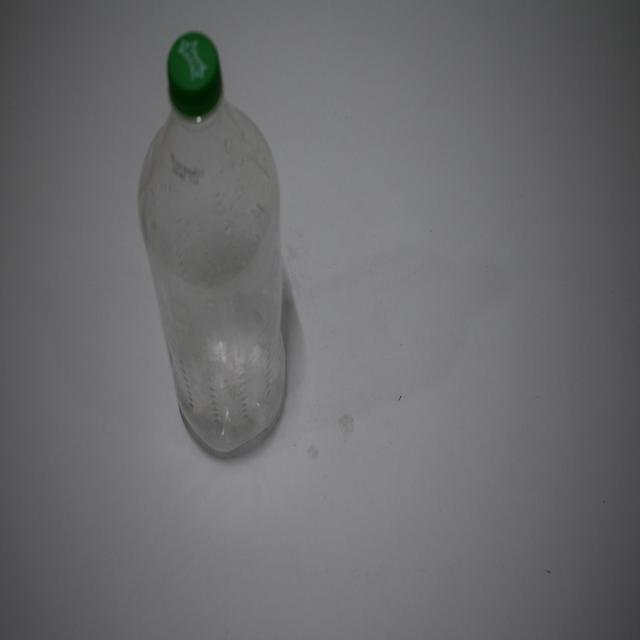bottle: (138, 13, 296, 477)
